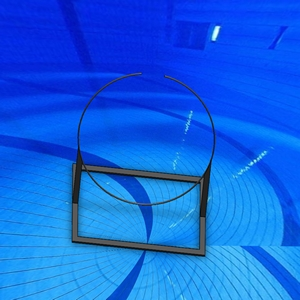circle: (71, 71, 217, 257)
